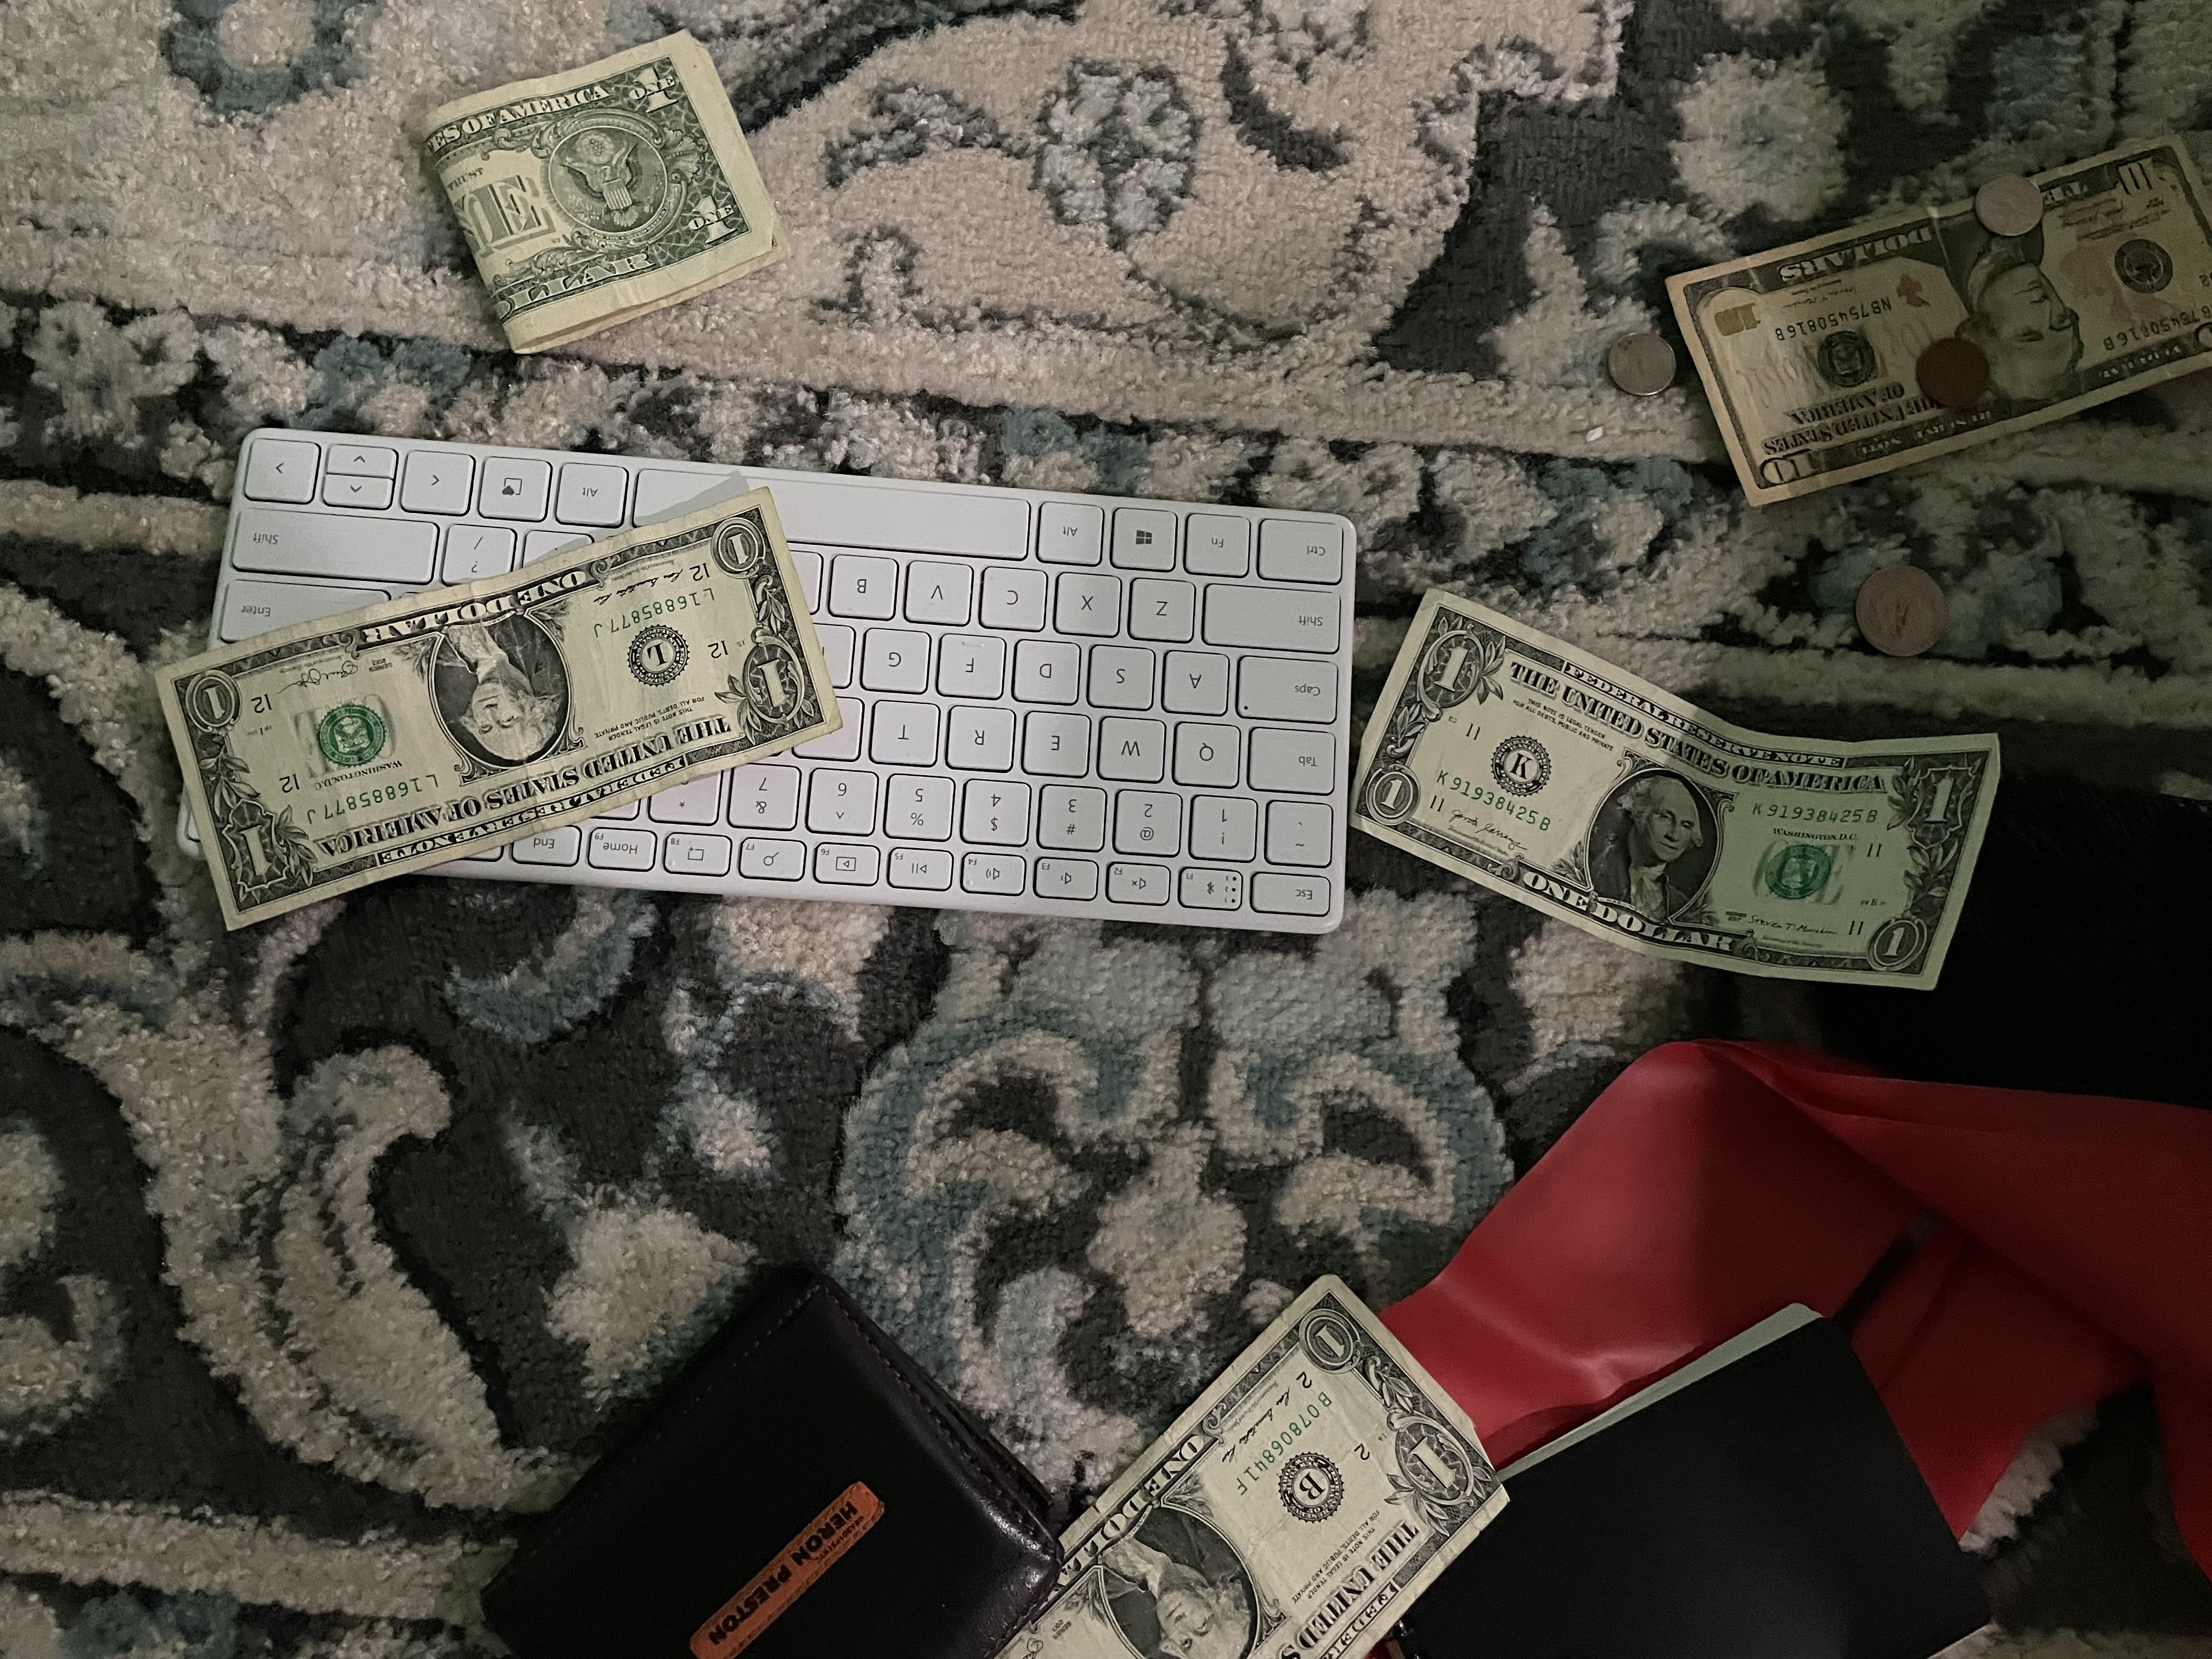Dime: (1958, 171, 2069, 242), (1609, 324, 1679, 403)
OneBill: (148, 483, 840, 958), (1345, 587, 2005, 999), (951, 1274, 1510, 1650), (397, 26, 808, 350)
Penny: (1911, 328, 1996, 406)
Quarter: (1831, 565, 1952, 666)
TenBill: (1658, 122, 2209, 514)
